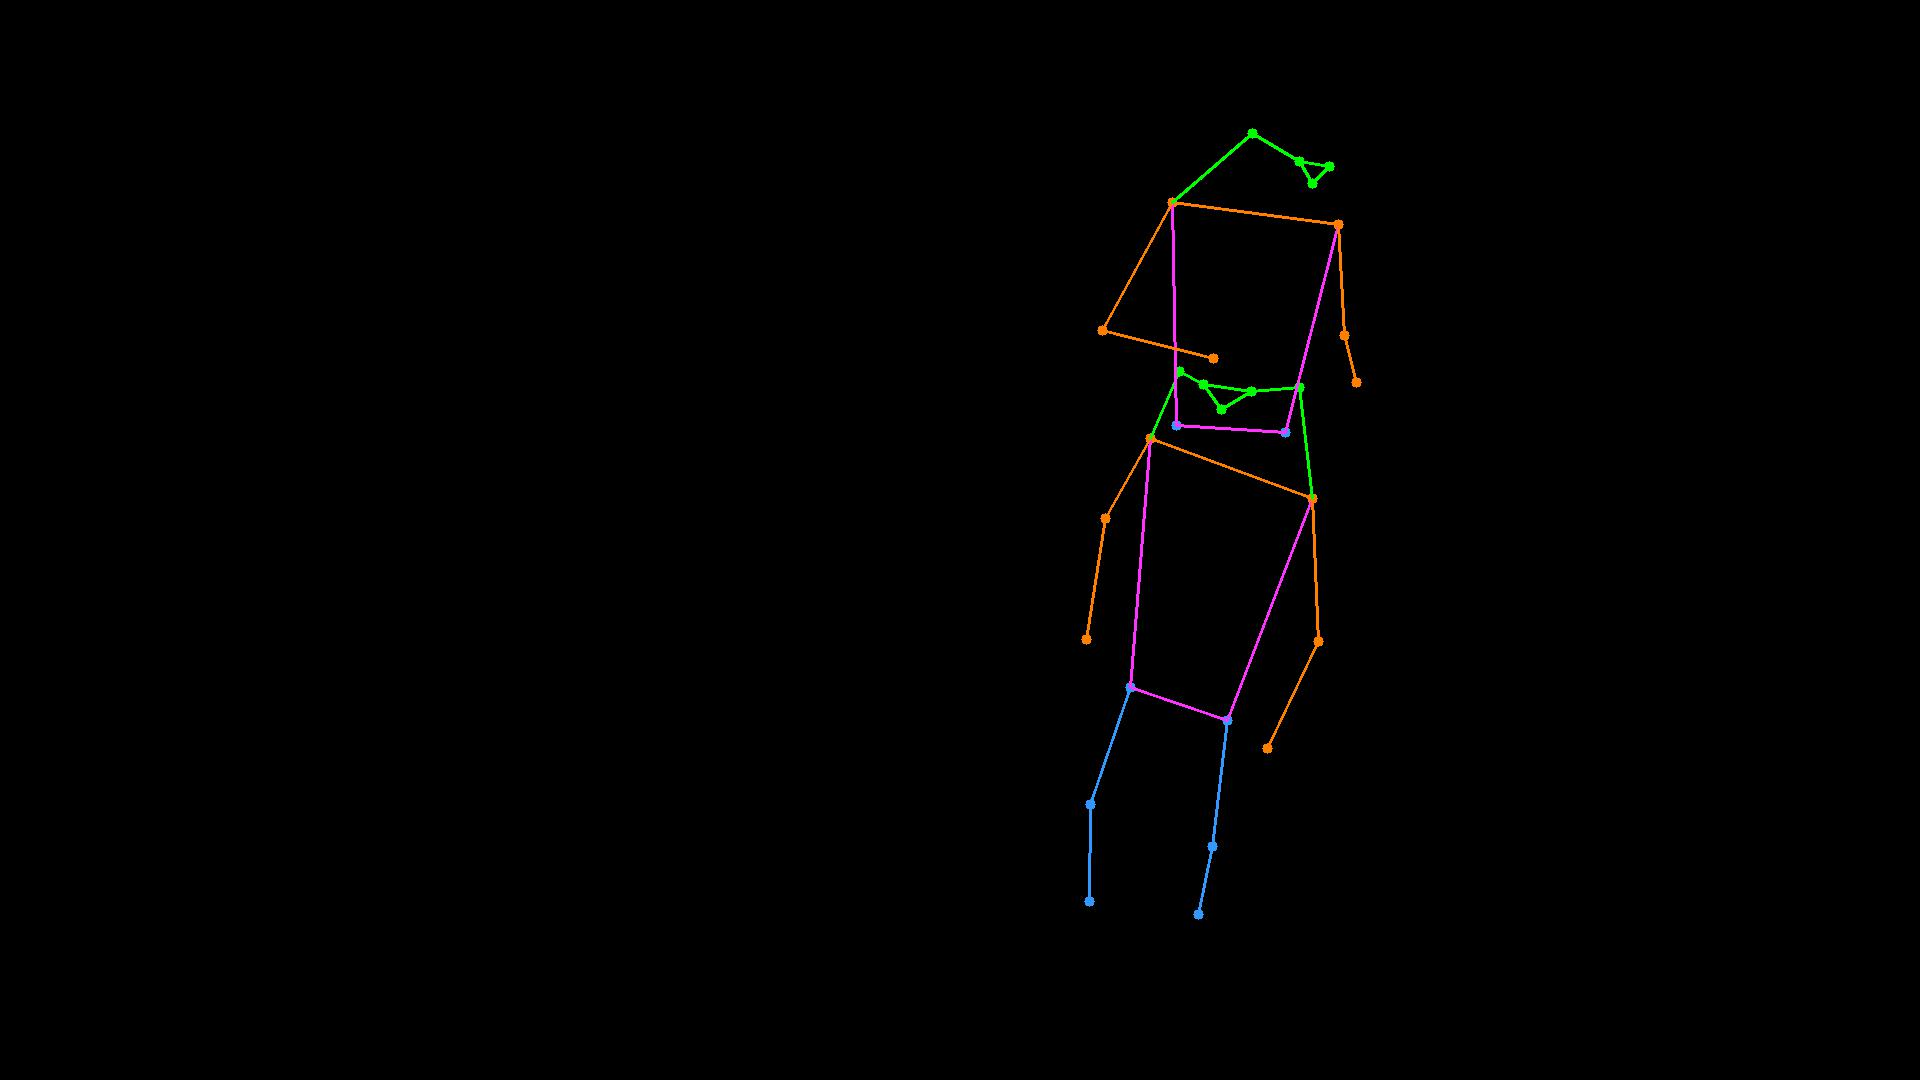normal: (945, 61, 1458, 988)
